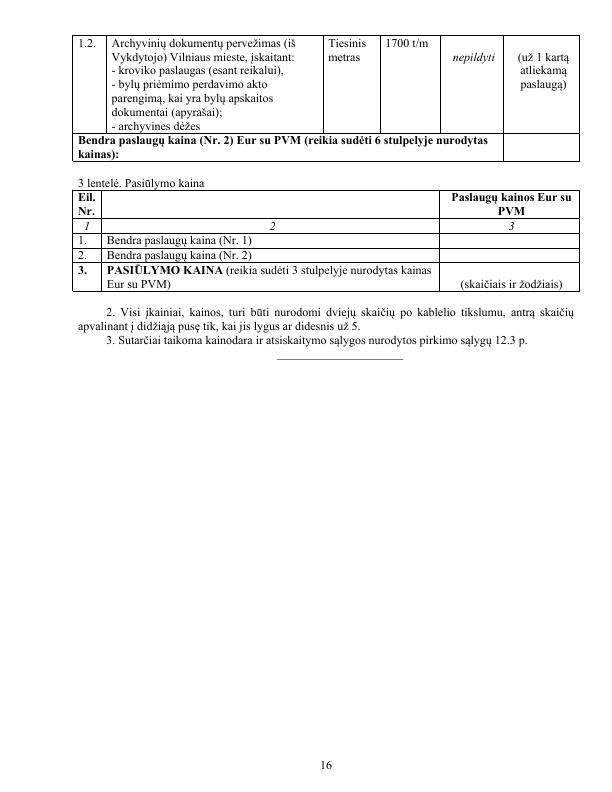table: (69, 32, 582, 166), (71, 188, 581, 293)
text: (73, 305, 577, 351), (76, 176, 207, 188)
